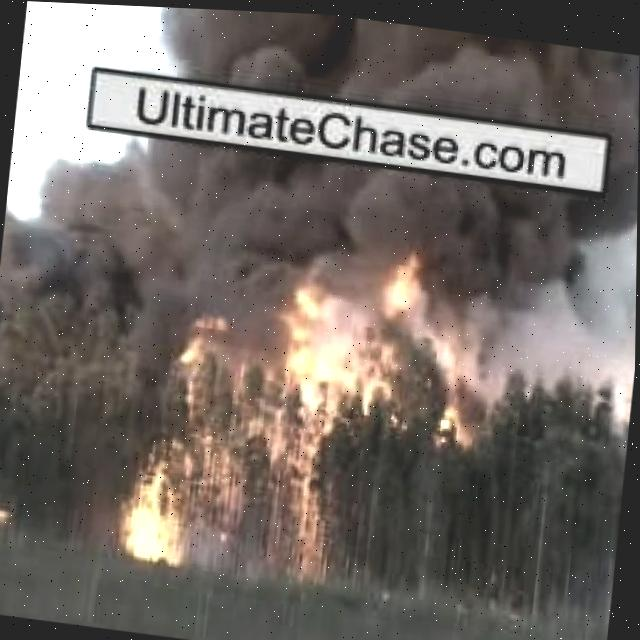Fire: (117, 254, 353, 583), (371, 224, 514, 445), (0, 494, 14, 536)
Smoke: (37, 119, 639, 287), (150, 5, 640, 134), (499, 273, 637, 410)
